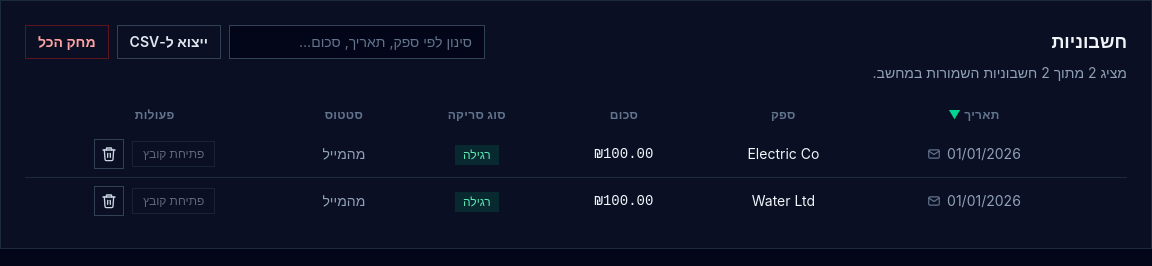
Test case: InvoicesTable.vue › filters rows by the search box and shows a no-match state
Type "electric" into the search field with placeholder "סינון לפי ספק, תאריך, סכום…" at (357, 42), box [229, 25, 485, 59]
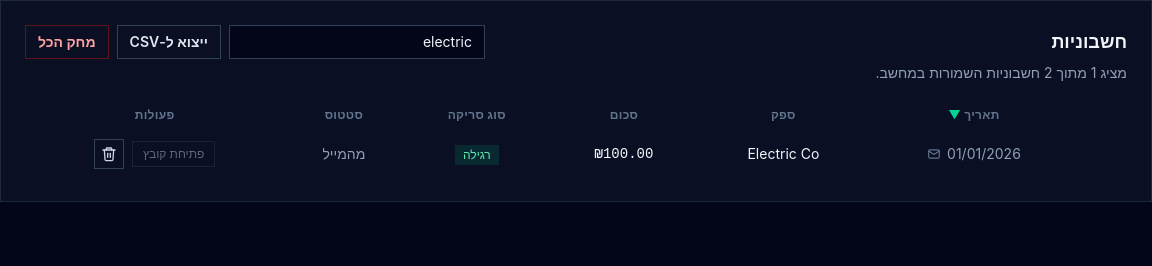
Check: the text "מציג 1 מתוך 2" is shown, box [875, 64, 1127, 81]
Replace the text in the search field with "zzzz" at (357, 42), box [229, 25, 485, 59]
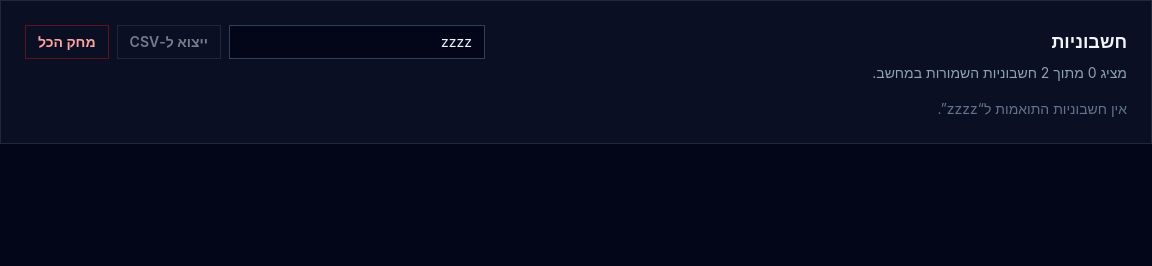
Check: no rows are shown
Check: the text "אין חשבוניות התואמות" is shown, box [938, 100, 1127, 117]
